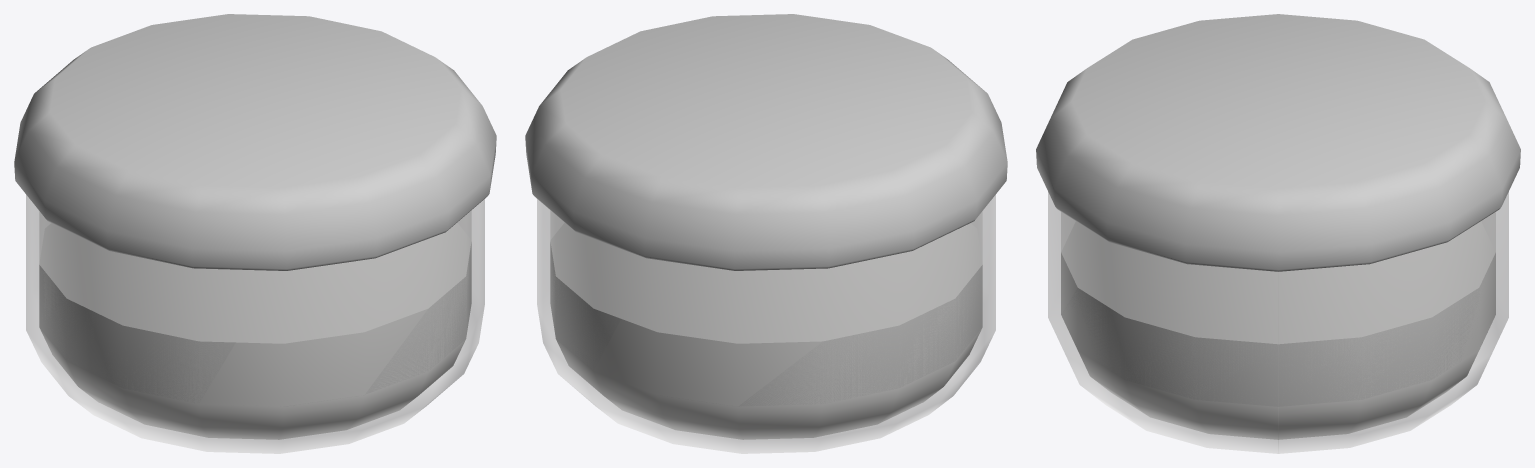
The model's file is Bottle_38.fbx.
3 views of the same model, side by side, from view 1: azimuth 30°, elevation 25°; view 2: azimuth 150°, elevation 25°; view 3: azimuth 270°, elevation 25° (orthographic).
Visible parts, largest first — view 1: Bottle_38; view 2: Bottle_38; view 3: Bottle_38.
Part boxes in pixels (bbox=[...]): Bottle_38: bbox=[14, 14, 496, 453]; Bottle_38: bbox=[525, 14, 1007, 453]; Bottle_38: bbox=[1036, 14, 1520, 453].
Size of the model in its own units: 19.51 by 12.15 by 19.51.
